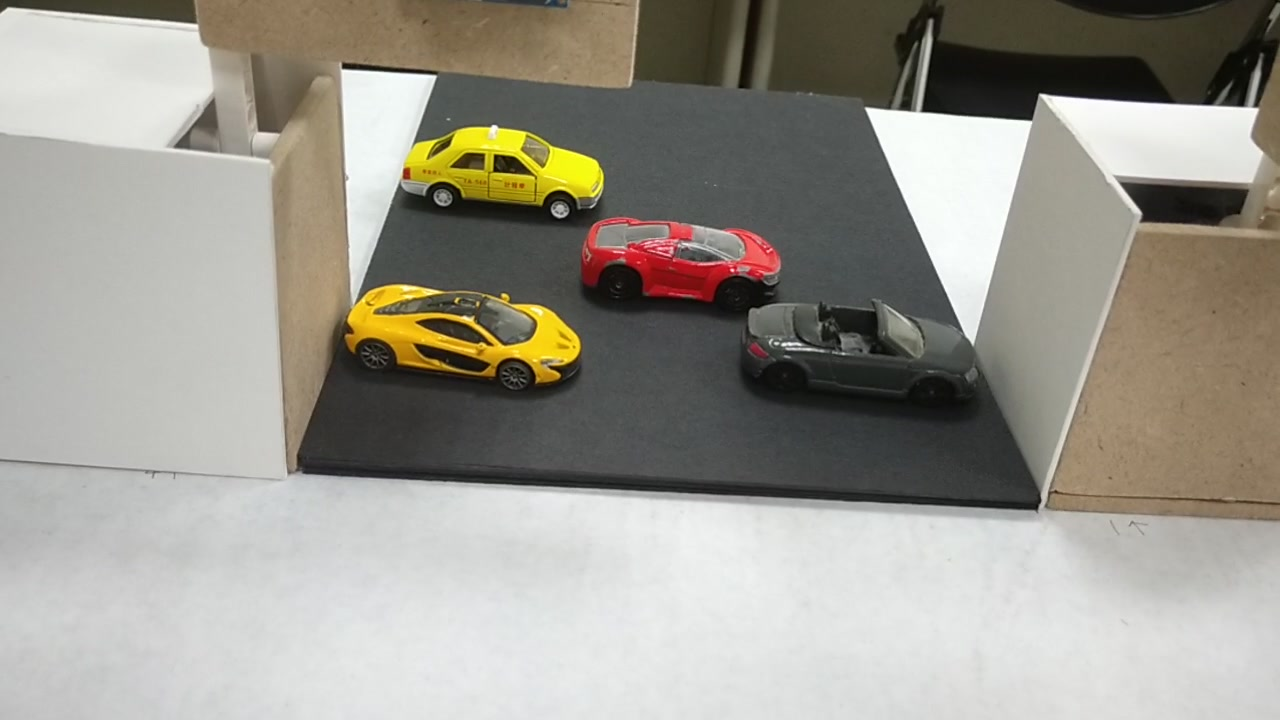car: (341, 280, 581, 396), (740, 304, 978, 409), (580, 210, 783, 322), (407, 122, 604, 223)
